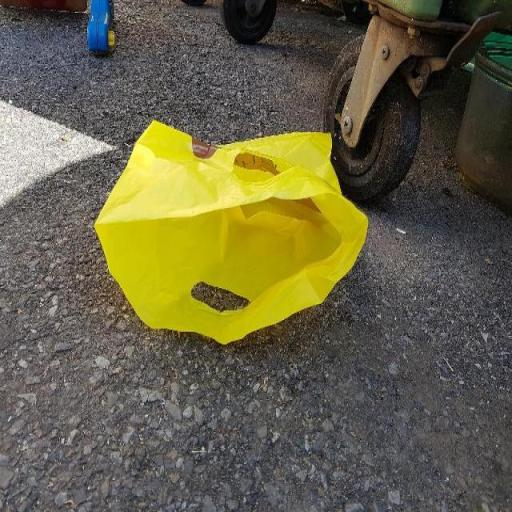plastic-bag: (93, 114, 370, 346)
